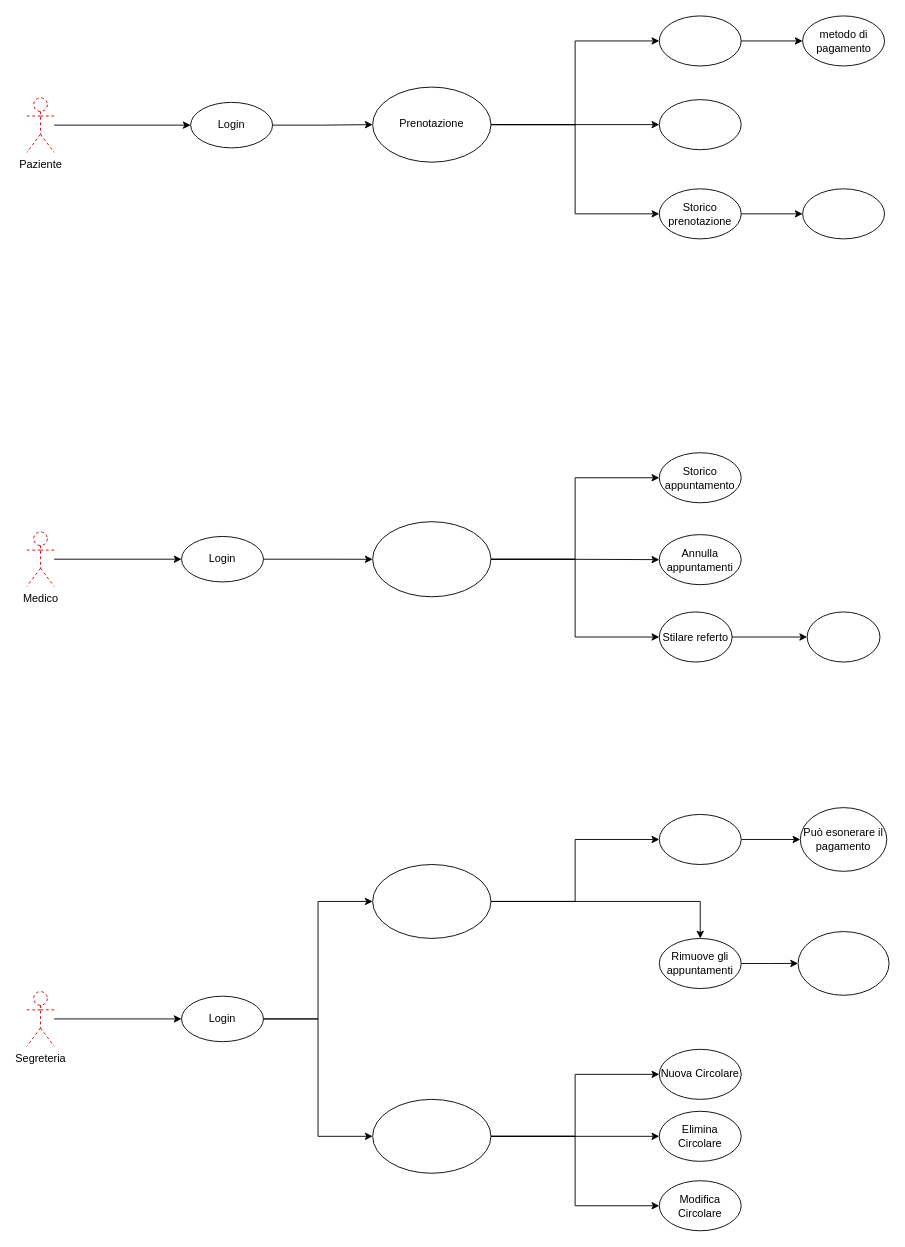
Some shapes in this 905 by 1247 pixel diagram are drawn without their labels. The box of each missing label's shape, as (x1, y1, x2, y2) in pixels:
Agenda Appuntamenti: (372, 521, 491, 597)
Aggiorna le disponibilità degli appuntamenti: (797, 931, 889, 995)
Annulla prenotazione: (658, 99, 741, 150)
Assegna gli appuntamenti: (658, 814, 741, 864)
Controllare referto: (802, 188, 885, 239)
Elenco annunci: (372, 1098, 491, 1173)
Elenco prenotazioni: (372, 864, 491, 938)
Inviare email: (806, 611, 880, 662)
Nuova prenotazione: (658, 15, 741, 66)
